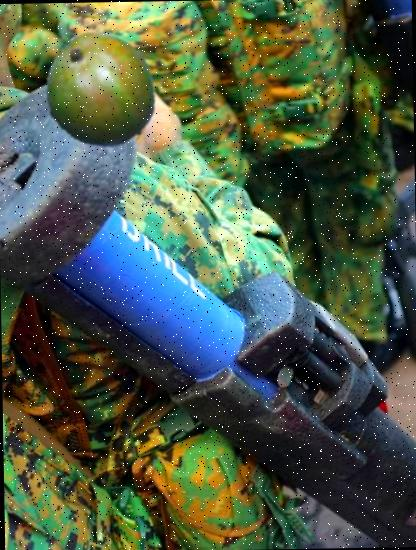Mango: (40, 30, 160, 150)
